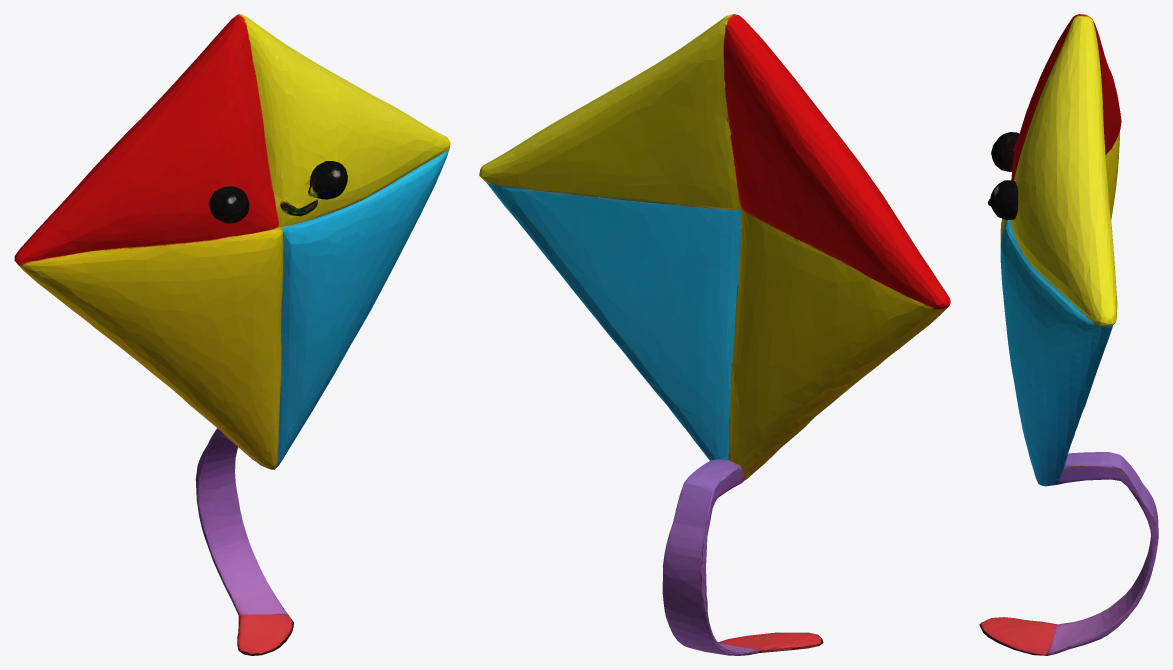
File: kite.glb
The picture shows the model from 3 angles, left to right: view 1: azimuth 30°, elevation 25°; view 2: azimuth 150°, elevation 25°; view 3: azimuth 270°, elevation 25°; orthographic projection. The views are drawn at different scales.
Visible parts, largest first — view 1: geometry_0; view 2: geometry_0; view 3: geometry_0.
Boxes of the visible parts, left/top/right/bottom form: geometry_0: left=14, top=14, right=450, bottom=655; geometry_0: left=479, top=14, right=950, bottom=655; geometry_0: left=979, top=14, right=1158, bottom=655.
Bounding box in the file's own units: 0.7551 × 0.9983 × 0.2594.
Materials: 1 (1 with a texture image).
